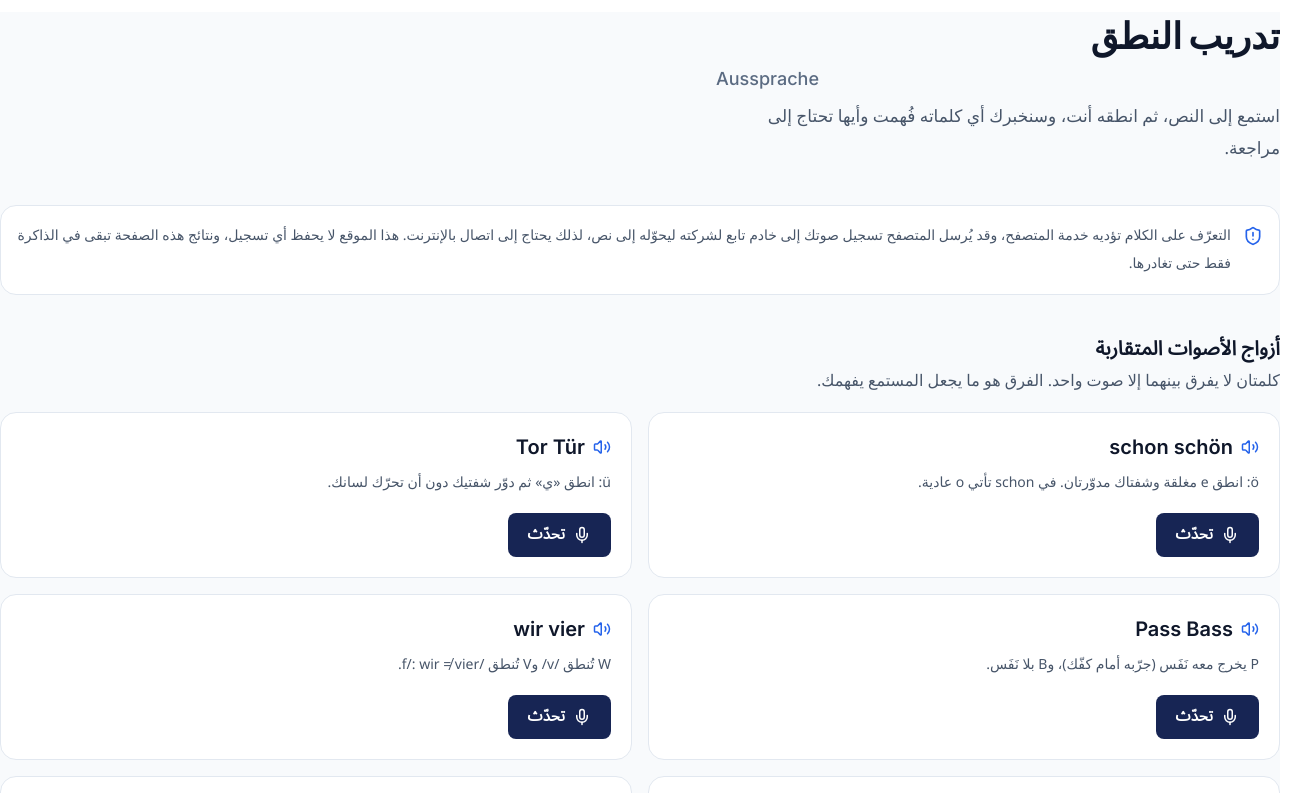
PronunciationPage › shows which words were understood, in words and not only in colour
Step 1. Click the 2nd button "تحدّث" → [1207, 535], box left=1156, top=513, right=1259, bottom=557
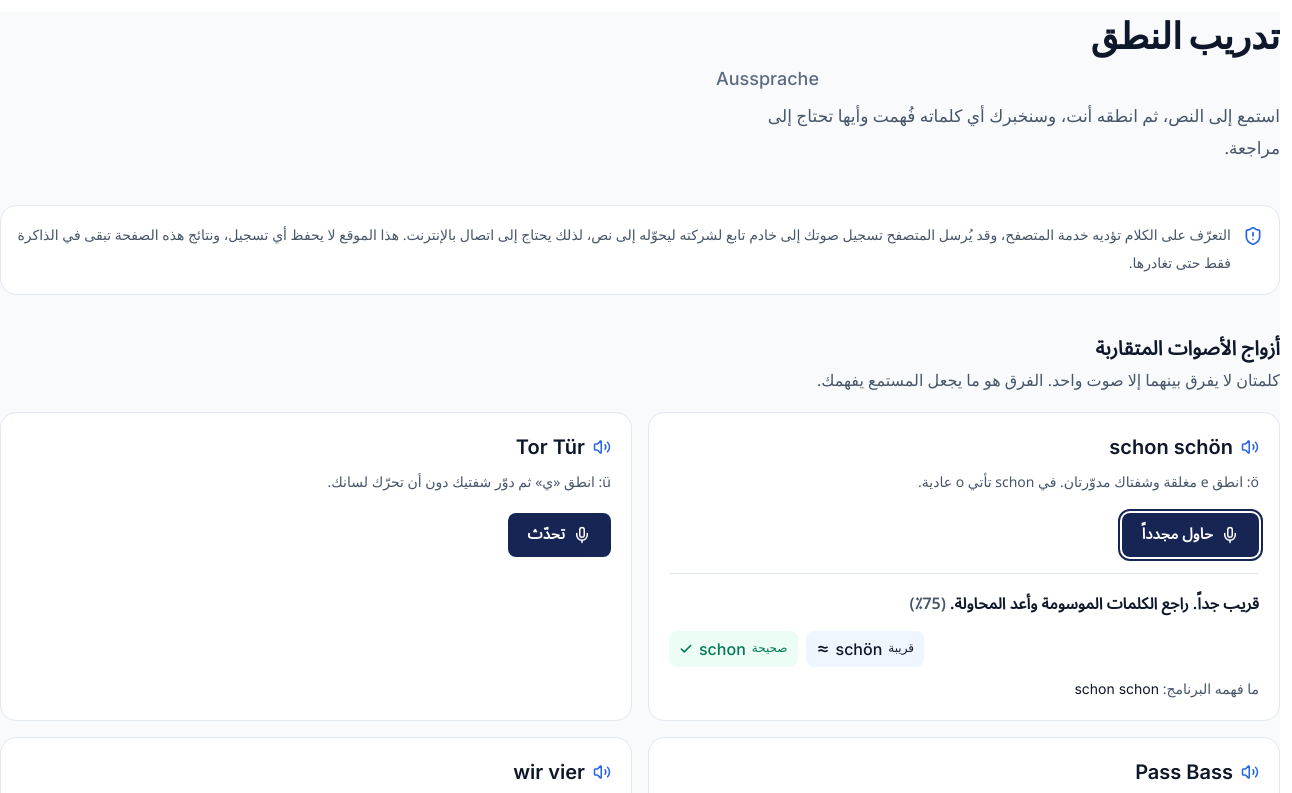
Expected: the text "قريب جداً. راجع الكلمات الموسومة وأعد المحاولة. (75٪)" is shown, left=910, top=587, right=1259, bottom=621
Expected: the text "صحيحة" is shown, left=752, top=641, right=788, bottom=657
Expected: the text "قريبة" is shown, left=888, top=641, right=914, bottom=657
